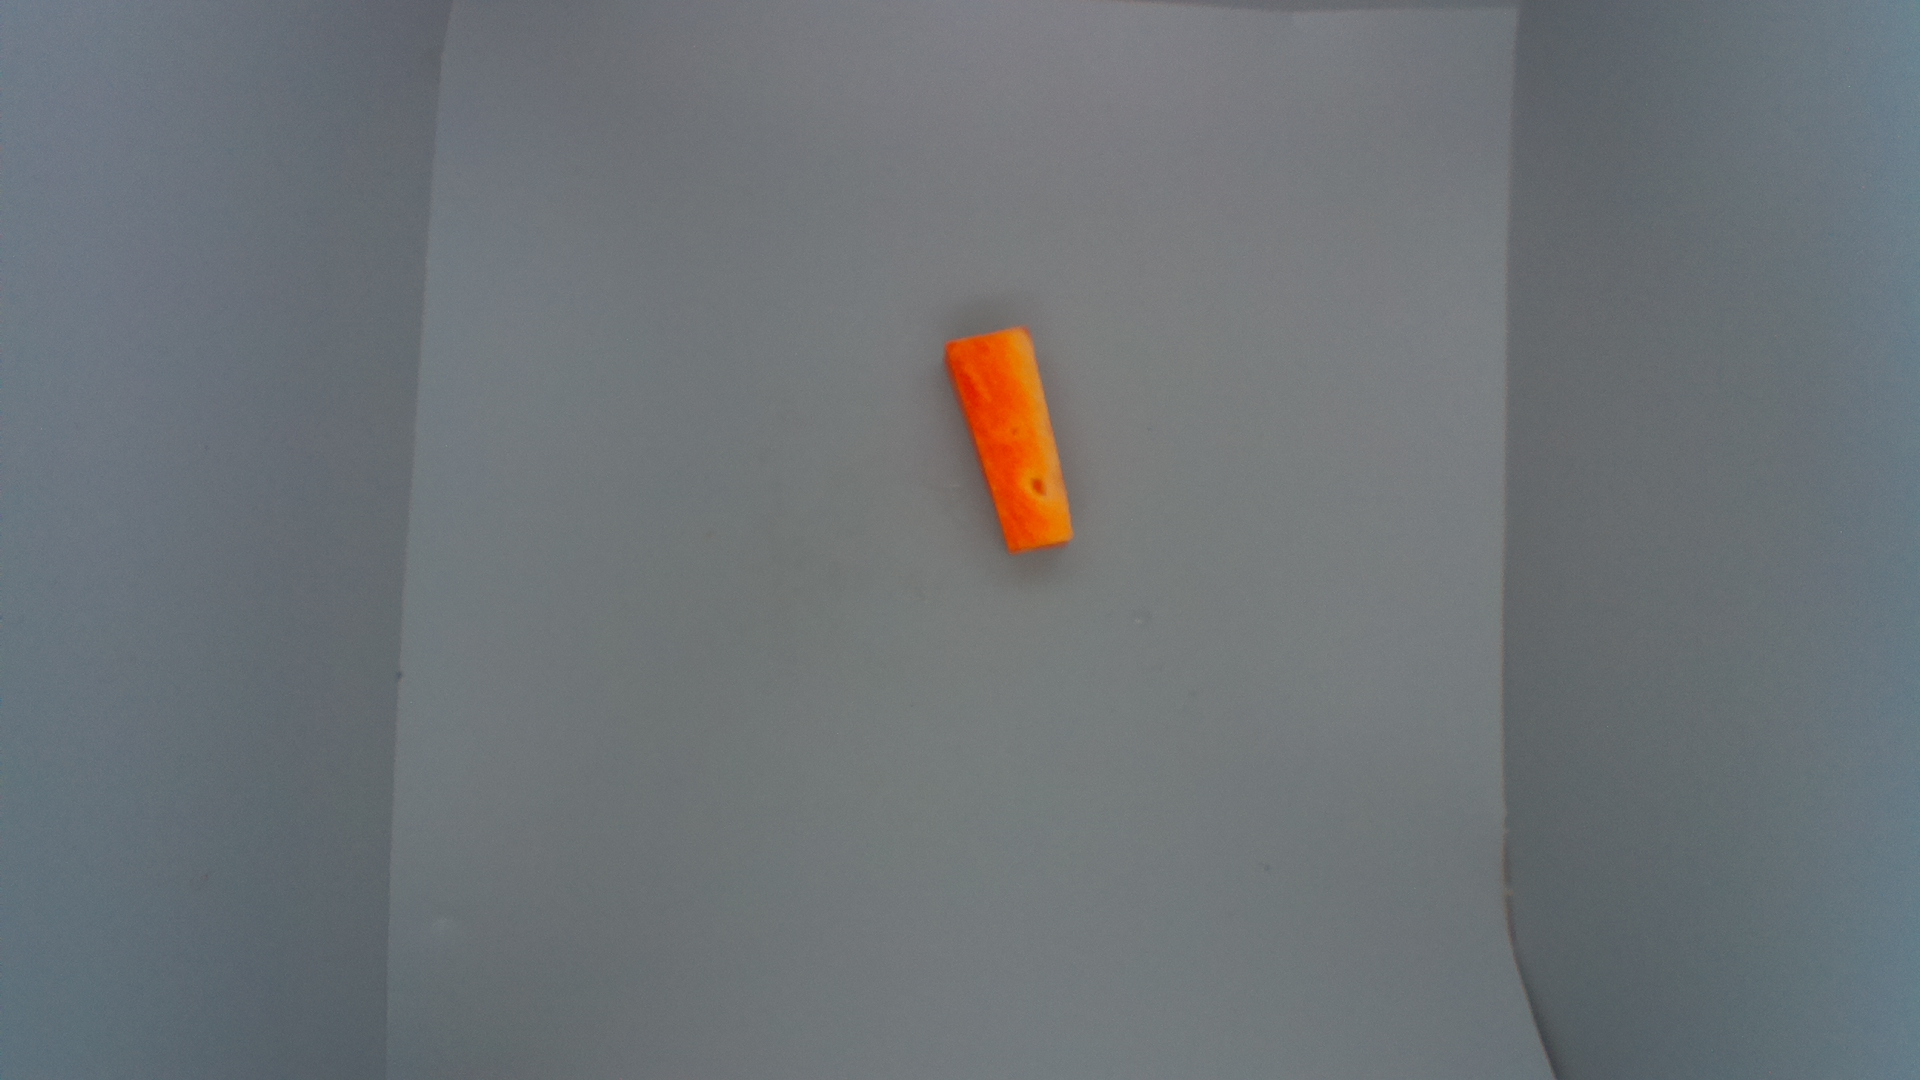carrot: (943, 322, 1075, 556)
